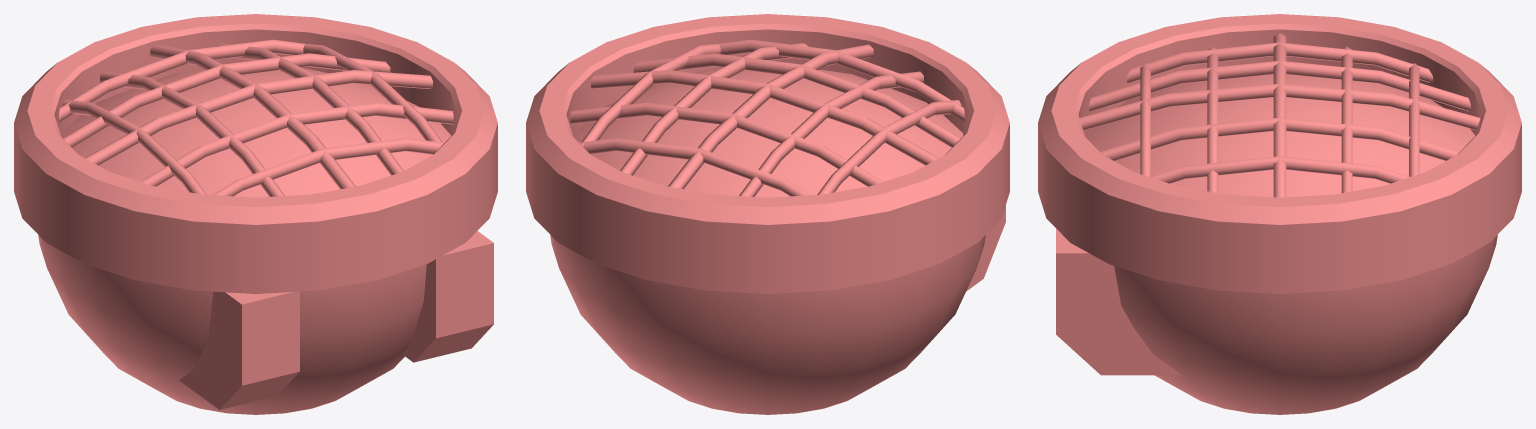
Rendered from Light_Deng1_1X1_off.FBX.
3 renders of one model, left to right at view 1: azimuth 30°, elevation 25°; view 2: azimuth 150°, elevation 25°; view 3: azimuth 270°, elevation 25°, orthographic.
Parts seen in each view (by area): view 1: Box005; view 2: Box005; view 3: Box005.
Boxes of the visible parts, x1,y1,x2,y2 form: Box005: (14,14,497,414); Box005: (526,14,1009,414); Box005: (1038,14,1521,414).
Bounding box in the file's own units: 1.08 × 0.699 × 1.08.
